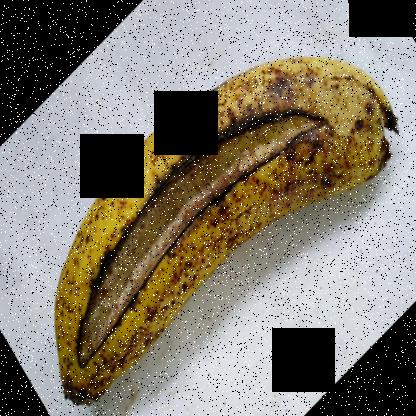rotten: (72, 54, 327, 380)
